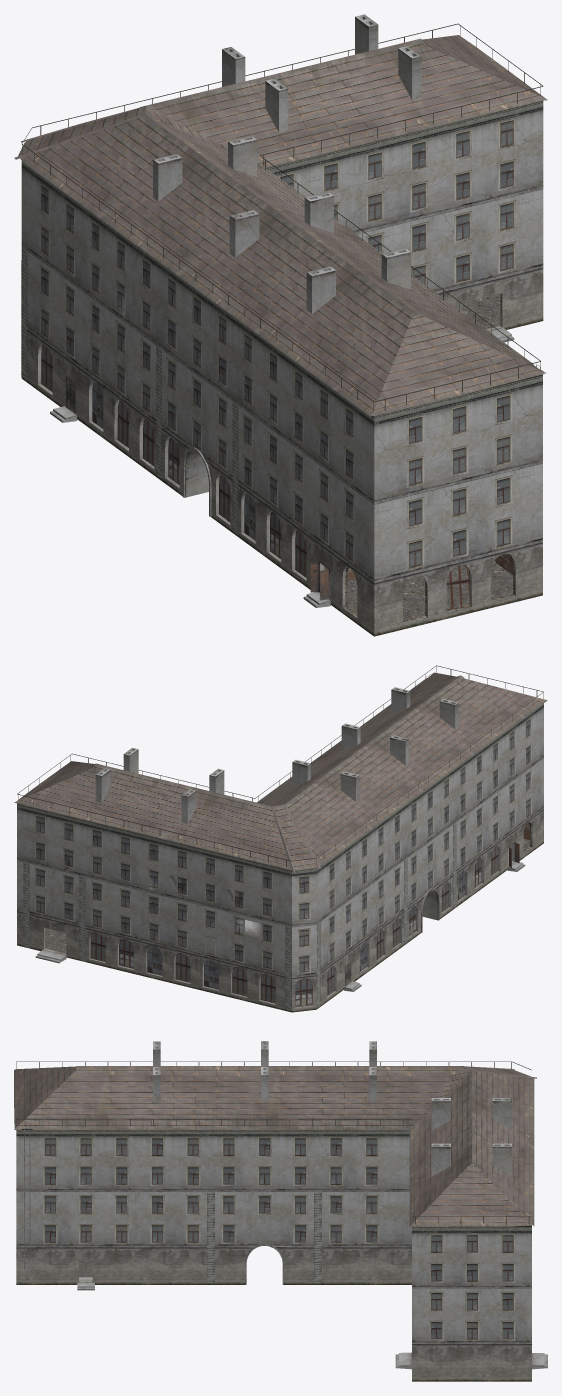
File: Building_City_03_LOD3.FBX
3 views of the same model, one above another, from view 1: azimuth 30°, elevation 25°; view 2: azimuth 150°, elevation 25°; view 3: azimuth 270°, elevation 25° (orthographic). The views are drawn at different scales.
Visible parts, largest first — view 1: Building_City_03_LOD3, Building_City_03_Roof_LOD3, Building_City_03_Frame_LOD3, Building_City_03_Tube_LOD3; view 2: Building_City_03_LOD3, Building_City_03_Roof_LOD3, Building_City_03_Frame_LOD3, Building_City_03_Tube_LOD3; view 3: Building_City_03_LOD3, Building_City_03_Roof_LOD3, Building_City_03_Frame_LOD3, Building_City_03_Tube_LOD3, Stairs_Metal_LOD3.
Part boxes in pixels (<box>): Building_City_03_LOD3: <box>21,101,543,636</box>; Building_City_03_Roof_LOD3: <box>14,23,547,416</box>; Building_City_03_Frame_LOD3: <box>39,118,515,570</box>; Building_City_03_Tube_LOD3: <box>153,14,421,313</box>; Building_City_03_LOD3: <box>17,703,543,1012</box>; Building_City_03_Roof_LOD3: <box>14,665,547,873</box>; Building_City_03_Frame_LOD3: <box>34,717,531,974</box>; Building_City_03_Tube_LOD3: <box>95,687,458,823</box>; Building_City_03_LOD3: <box>16,1128,547,1381</box>; Building_City_03_Roof_LOD3: <box>14,1061,536,1226</box>; Building_City_03_Frame_LOD3: <box>43,1137,515,1340</box>; Building_City_03_Tube_LOD3: <box>153,1041,511,1176</box>; Stairs_Metal_LOD3: <box>24,1126,30,1269</box>.
Size of the model in its own units: 3703 by 5201 by 2141.
5 materials, 5 textured.
